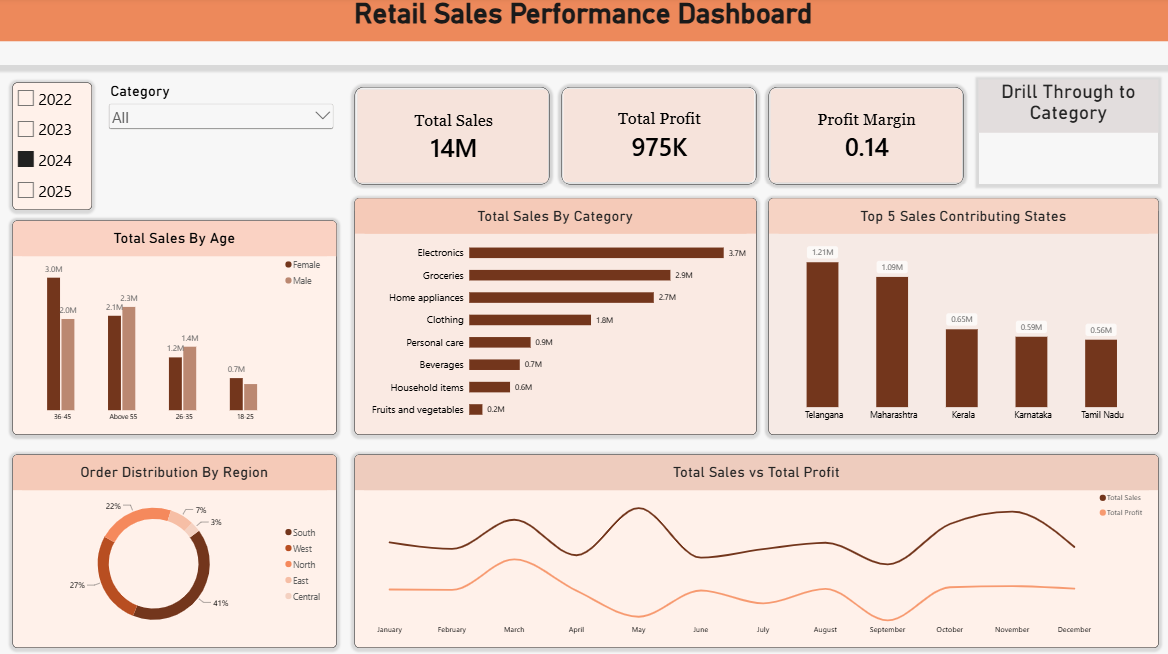

This screenshot's page, from the dashboard's own definition file:
{"tool":"powerbi","page":{"name":"Sales Dashboard","canvas":[1920,1080],"ordinal":0},"visuals":[{"type":"cardVisual","fields":{"Data":["Flat Table.Total Sales"]},"box":[588,146.4,317.2,158.6],"z":0},{"type":"cardVisual","fields":{"Data":["Flat Table.Total Profit"]},"box":[924.7,146.4,317.2,158.6],"z":1000},{"type":"cardVisual","fields":{"Data":["Flat Table.Profit Margin"]},"box":[1261.4,146.4,317.2,158.6],"z":3000},{"type":"barChart","title":"Total Sales By Category","fields":{"Category":["Products.Category"],"Y":["Flat Table.Total Sales"]},"box":[588,326.9,653.9,385.5],"z":5000},{"type":"donutChart","title":"Order Distribution By Region","fields":{"Category":["Stores.Region"],"Y":["CountNonNull(Stores.Region)"]},"box":[31.7,744.1,527,314.7],"z":6000},{"type":"slicer","fields":{"Values":["Flat Table.Order_Date.Variation.Date Hierarchy.Year"]},"box":[31.7,139.1,129.3,207.4],"z":7001},{"type":"textbox","title":"Retail Sales Performance Dashboard","box":[0,0,1920.1,109.8],"z":7003},{"type":"actionButton","title":"Drill Through to Category","box":[1603,134.2,292.8,170.8],"z":7004},{"type":"slicer","fields":{"Values":["Products.Category"]},"box":[183,139.1,375.7,78.1],"z":7005},{"type":"clusteredColumnChart","title":"Total Sales By Age","fields":{"Category":["Customers.Age Group"],"Series":["Customers.Gender"],"Y":["Flat Table.Total Sales"]},"box":[31.7,363.5,527,348.9],"z":7006},{"type":"lineChart","title":"Total Sales vs Total Profit","fields":{"Category":["Flat Table.Order_Date.Variation.Date Hierarchy.Month"],"Y":["Flat Table.Total Sales","Flat Table.Total Profit"]},"box":[588,744.1,1307.7,314.7],"z":7009},{"type":"lineClusteredColumnComboChart","title":"Top 5 Sales Contributing States","fields":{"Category":["Stores.State"],"Y":["Flat Table.Total Sales"]},"box":[1261.4,326.9,634.4,385.5],"z":7010}]}

Visuals, with their boxes in screenshot pixels (x1, y1, x2, y2), scaled from the page's 1920x1080 canvas onto the 1168x654 screenshot:
cardVisual - Flat Table.Total Sales: crop(358, 89, 551, 185)
cardVisual - Flat Table.Total Profit: crop(563, 89, 755, 185)
cardVisual - Flat Table.Profit Margin: crop(767, 89, 960, 185)
"Total Sales By Category" barChart: crop(358, 198, 755, 431)
"Order Distribution By Region" donutChart: crop(19, 451, 340, 641)
slicer - Flat Table.Order_Date.Variation.Date Hierarchy.Year: crop(19, 84, 98, 210)
"Retail Sales Performance Dashboard" textbox: crop(0, 0, 1167, 66)
"Drill Through to Category" actionButton: crop(975, 81, 1153, 185)
slicer - Products.Category: crop(111, 84, 340, 132)
"Total Sales By Age" clusteredColumnChart: crop(19, 220, 340, 431)
"Total Sales vs Total Profit" lineChart: crop(358, 451, 1153, 641)
"Top 5 Sales Contributing States" lineClusteredColumnComboChart: crop(767, 198, 1153, 431)
